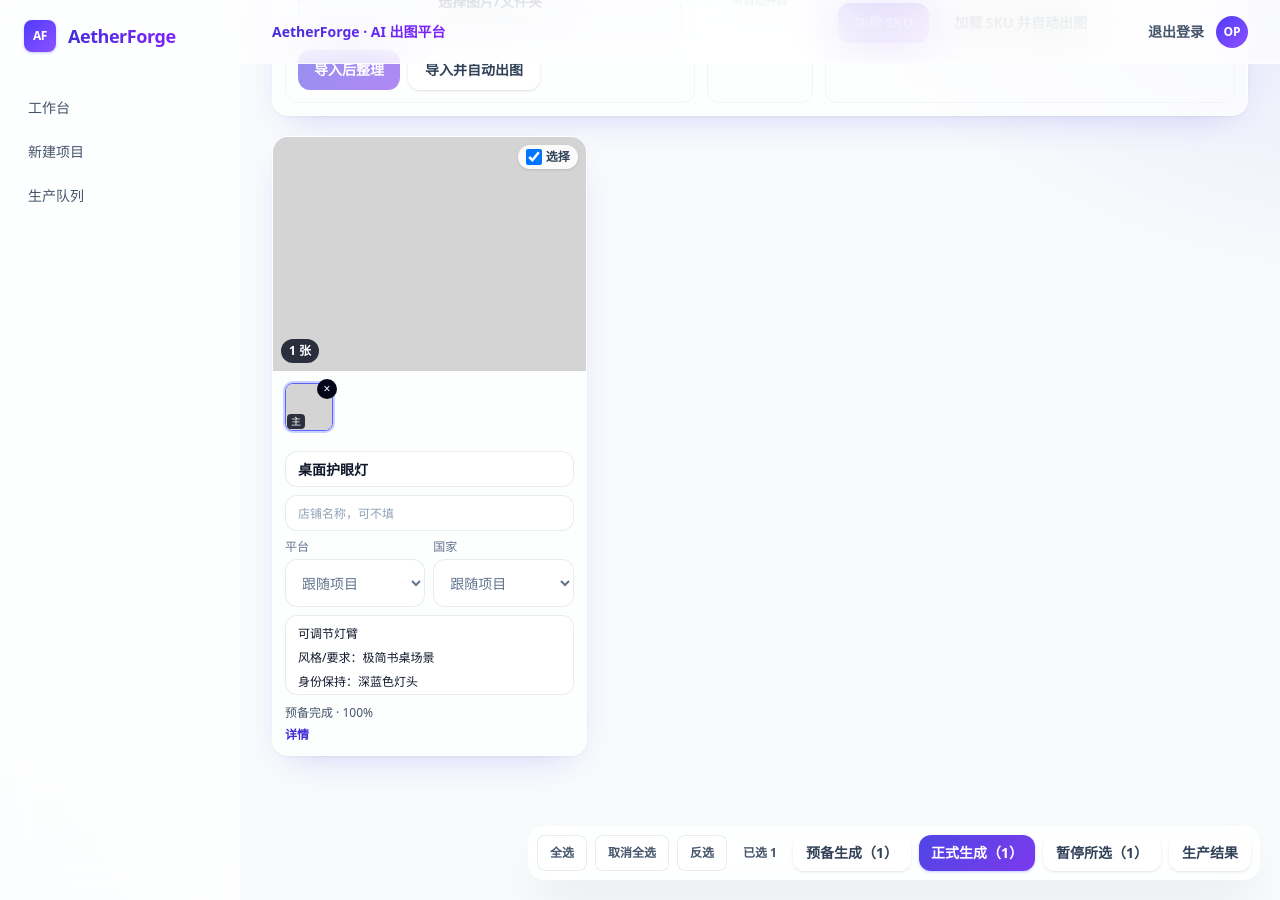
Test: renders product cards with inline identity and prompt editing
(page scrolled)
Expected: the field named "商品名称 桌面护眼灯" holds "桌面护眼灯", [285,452,574,488]
Click the button with aria-label "桌面护眼灯 详情".
click(297, 736)  # box [285,728,309,744]
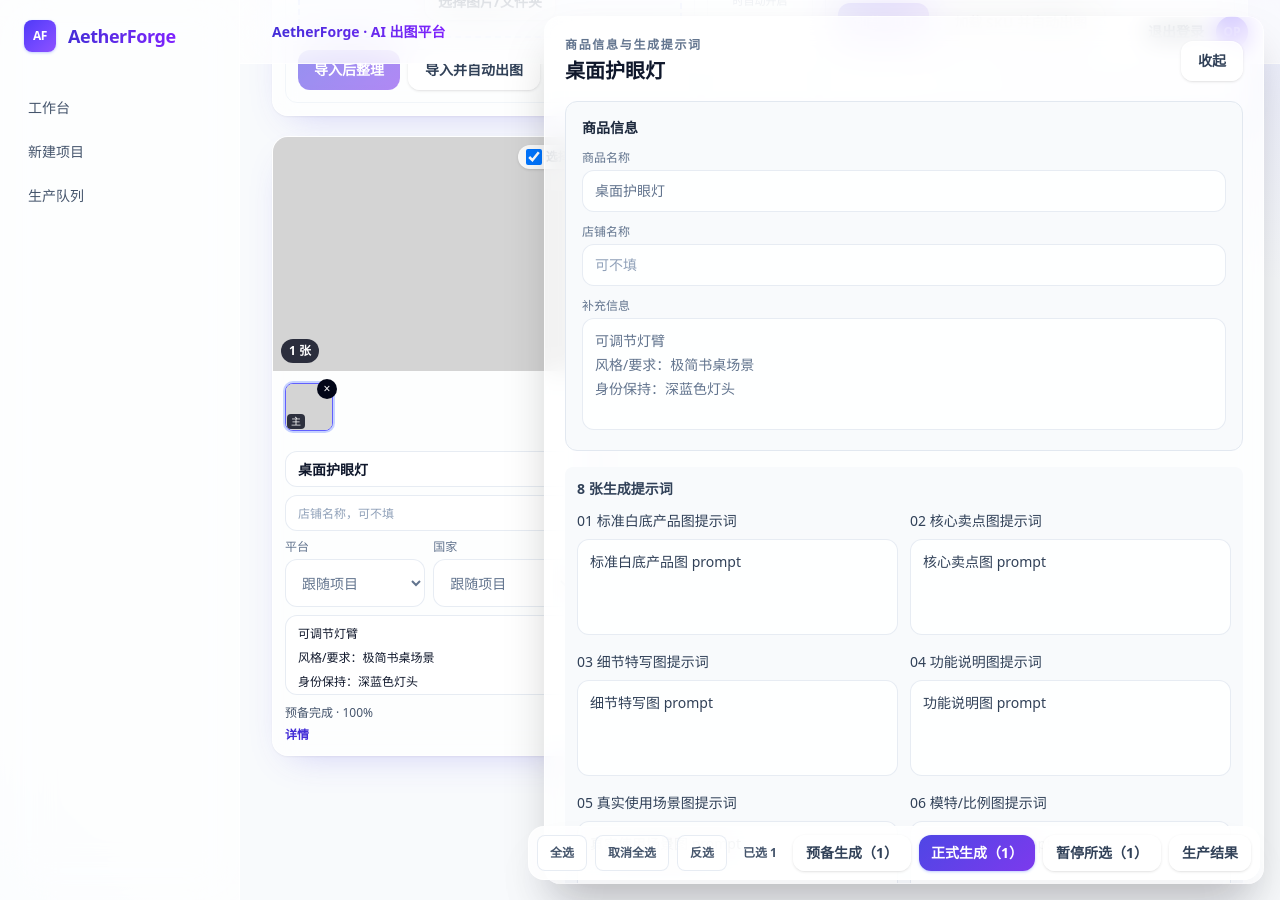
Expected: the text box labelled "01 标准白底产品图提示词" holds "标准白底产品图 prompt", [577,539,898,635]
